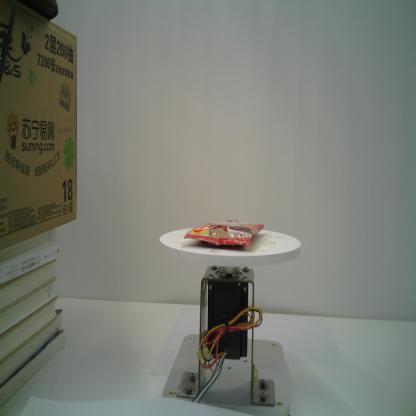Instant Drink: (184, 219, 265, 246)
